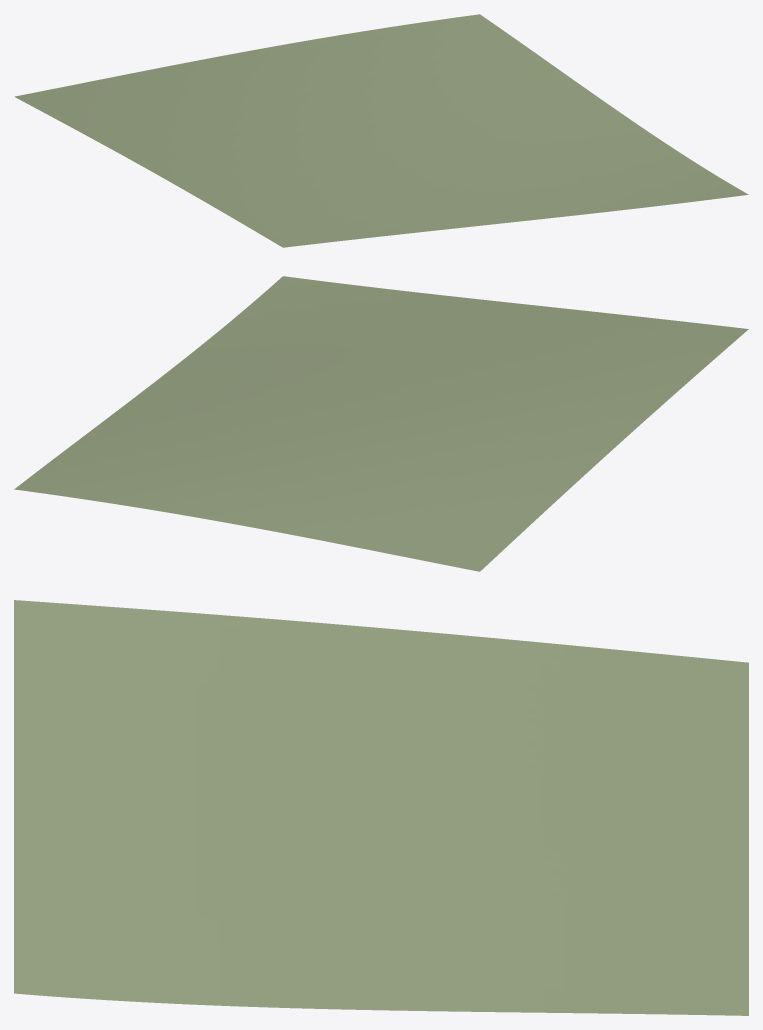
Rendered from alpine-13-4.glb.
3 views of the same model, one above another, from view 1: azimuth 30°, elevation 25°; view 2: azimuth 150°, elevation 25°; view 3: azimuth 270°, elevation 25° (orthographic). The views are drawn at different scales.
Parts seen in each view (by area): view 1: alpine-13-4; view 2: alpine-13-4; view 3: alpine-13-4.
Boxes of the visible parts, x1=… form: alpine-13-4: x1=14, y1=14, x2=748, y2=247; alpine-13-4: x1=14, y1=276, x2=748, y2=571; alpine-13-4: x1=14, y1=600, x2=748, y2=1015.
Size of the model in its own units: 256 by 40.48 by 256.
